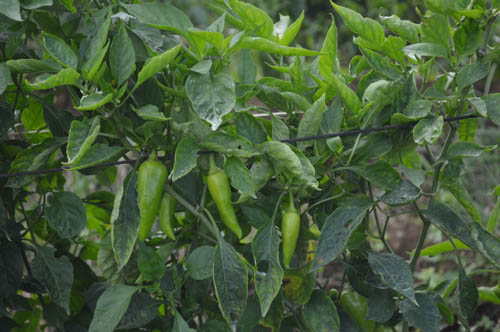ChiliPepper: (136, 160, 168, 244), (206, 172, 244, 239), (279, 211, 303, 268), (160, 195, 177, 239)
